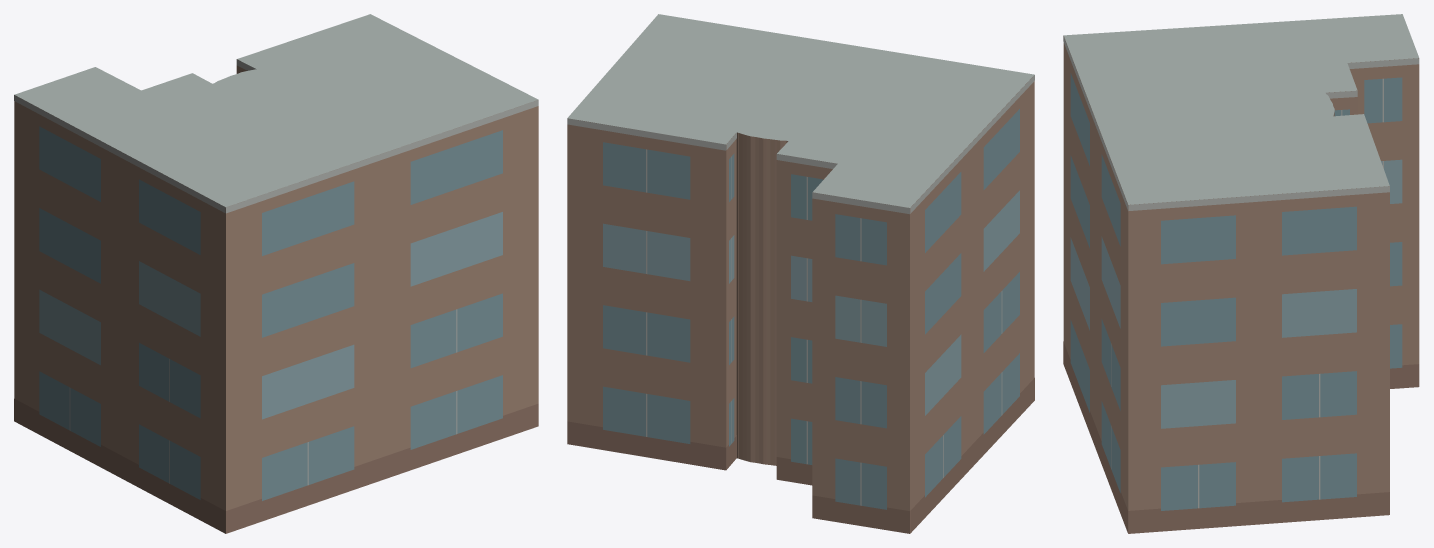
Rendered from survey-upis-32523903.glb.
3 renders of one model, left to right at view 1: azimuth 30°, elevation 25°; view 2: azimuth 150°, elevation 25°; view 3: azimuth 270°, elevation 25°, orthographic.
Visible parts, largest first — view 1: survey-upis-32523903.tmp; view 2: survey-upis-32523903.tmp; view 3: survey-upis-32523903.tmp.
Part boxes in pixels (bbox=[...]): survey-upis-32523903.tmp: bbox=[14, 14, 538, 533]; survey-upis-32523903.tmp: bbox=[567, 14, 1034, 533]; survey-upis-32523903.tmp: bbox=[1063, 14, 1419, 533].
Bounding box in the file's own units: 15.94 × 12.8 × 12.56.
